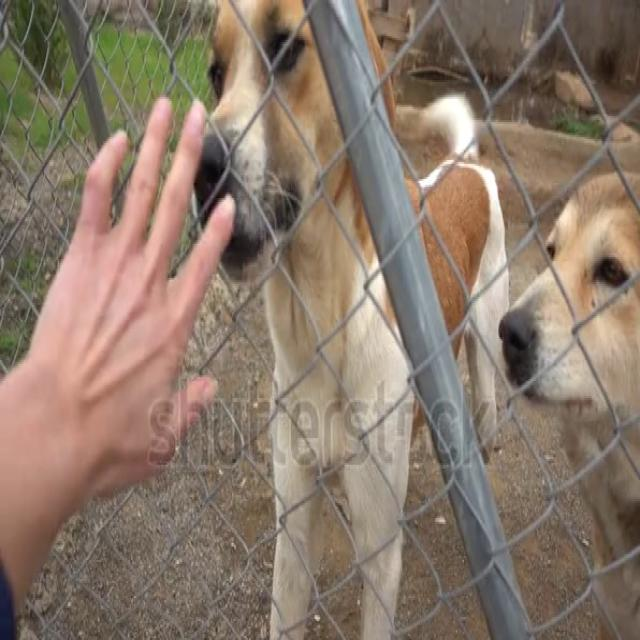normal_animals: (189, 0, 512, 638), (468, 126, 640, 567)
